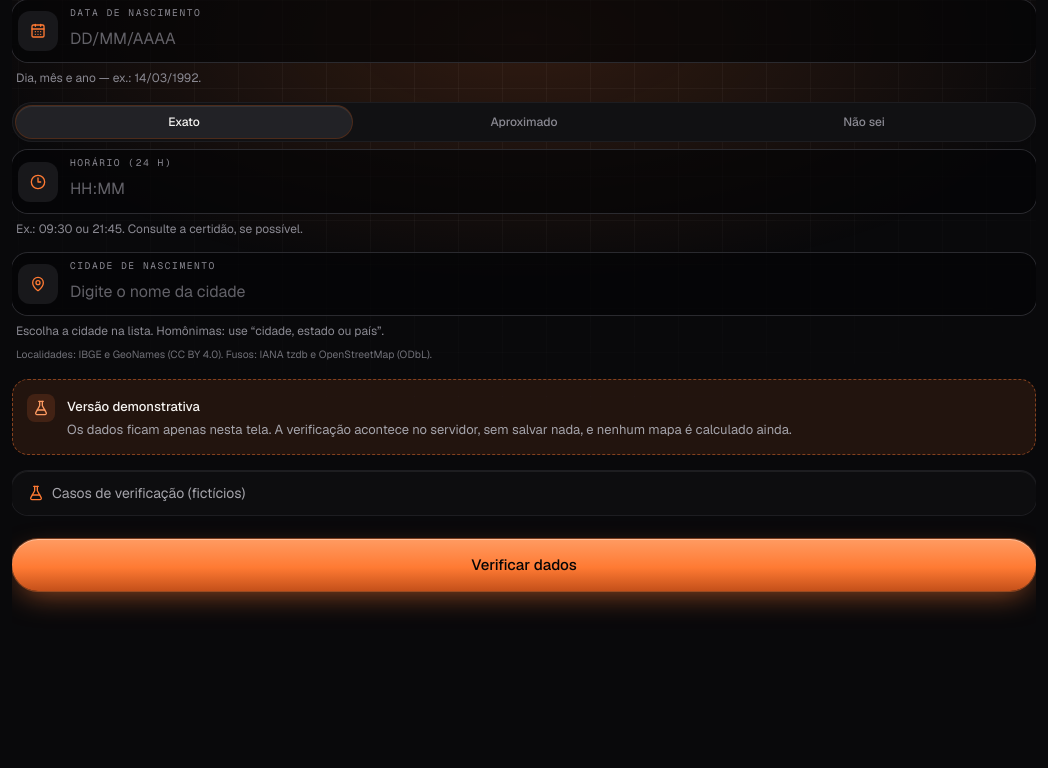
Test: BirthDataForm › nunca seleciona a cidade sozinho, mesmo com um único resultado
Type "Recife" into the dropdown labelled "Cidade de nascimento" at coordinates (545, 291), box left=70, top=273, right=1020, bottom=309
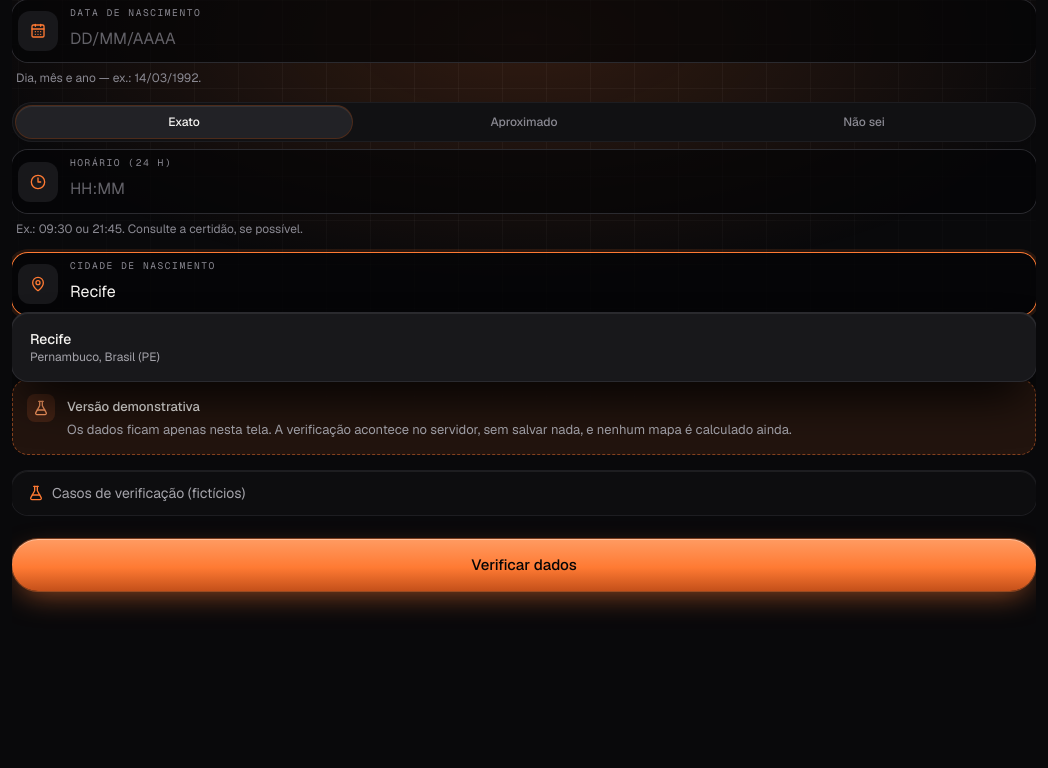
expect the option "Recife Pernambuco, Brasil (PE)" is shown: met, box left=30, top=330, right=160, bottom=365
